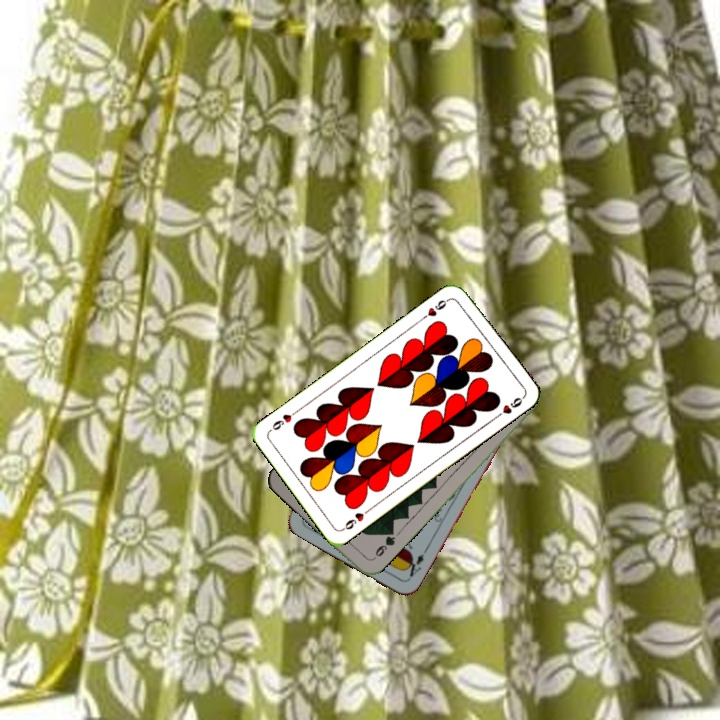EA: (401, 550, 427, 583)
G9: (368, 527, 398, 563)
H9: (338, 504, 373, 533), (418, 294, 453, 323)
